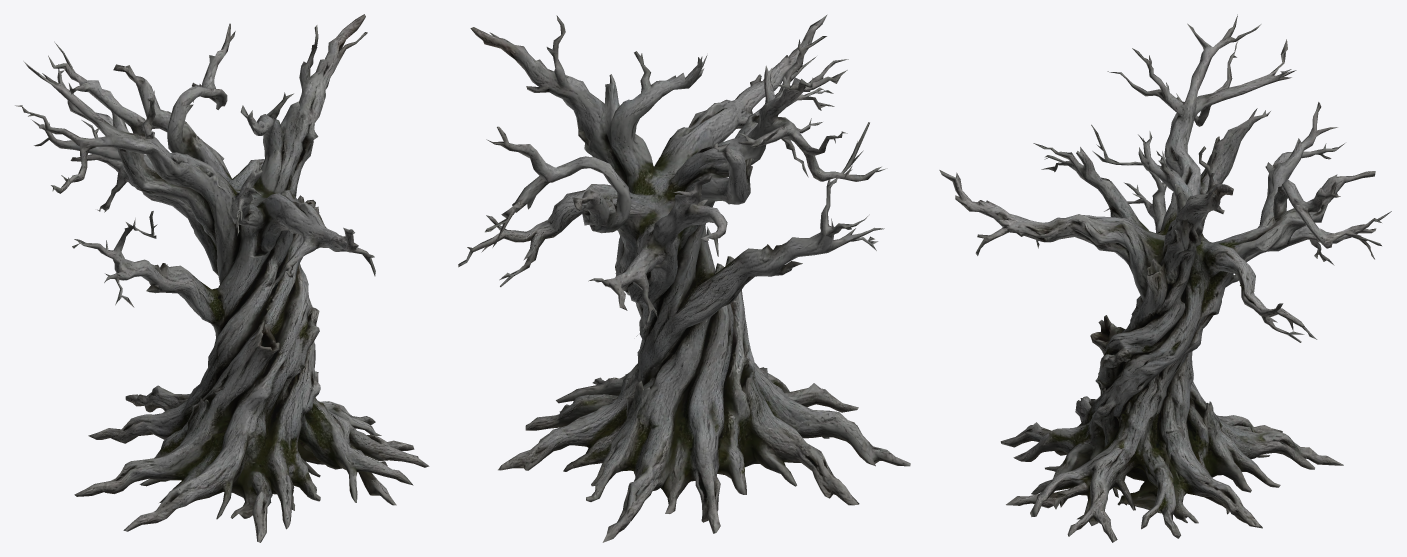
The picture shows the model from 3 angles, left to right: view 1: azimuth 30°, elevation 25°; view 2: azimuth 150°, elevation 25°; view 3: azimuth 270°, elevation 25°; orthographic projection. The views are drawn at different scales.
Visible parts, largest first — view 1: tripo_node_f55ea30c-c5c2-4345-8037-1d3a4662267b; view 2: tripo_node_f55ea30c-c5c2-4345-8037-1d3a4662267b; view 3: tripo_node_f55ea30c-c5c2-4345-8037-1d3a4662267b.
Part boxes in pixels (<box>): tripo_node_f55ea30c-c5c2-4345-8037-1d3a4662267b: <box>15,14,429,542</box>; tripo_node_f55ea30c-c5c2-4345-8037-1d3a4662267b: <box>458,14,910,542</box>; tripo_node_f55ea30c-c5c2-4345-8037-1d3a4662267b: <box>939,14,1391,542</box>.
Bounding box in the file's own units: 0.8281 × 0.9596 × 1.
Materials: 1 (1 with a texture image).
